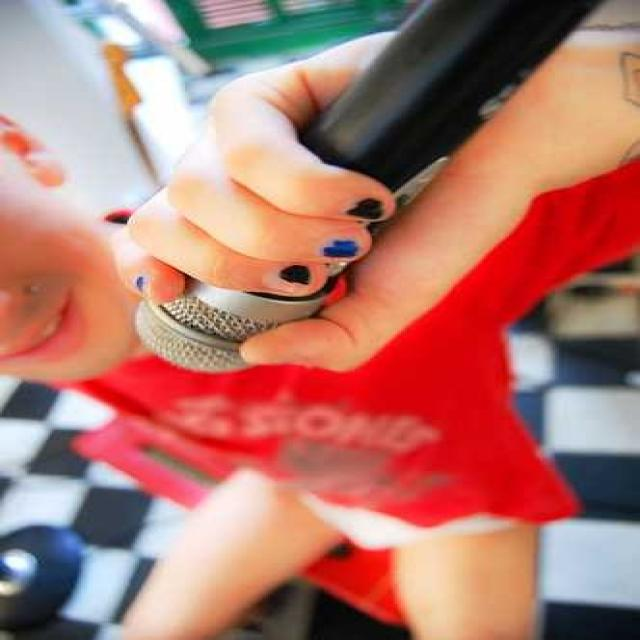microphone: (134, 4, 621, 372)
